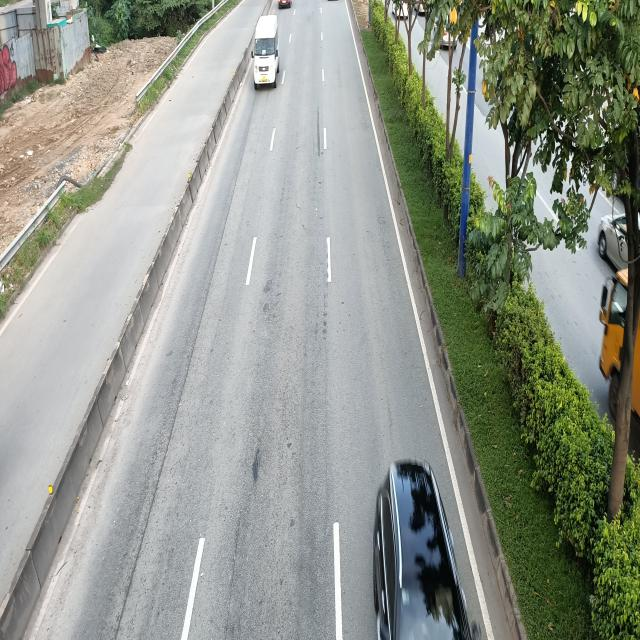van: (251, 14, 279, 88)
